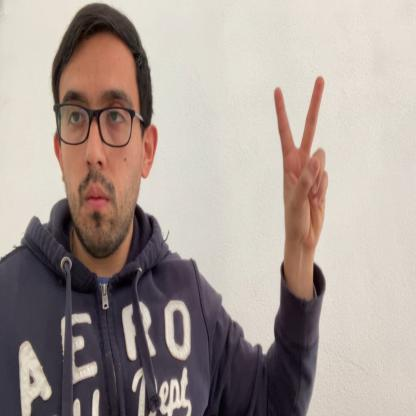V: (274, 74, 330, 254)
